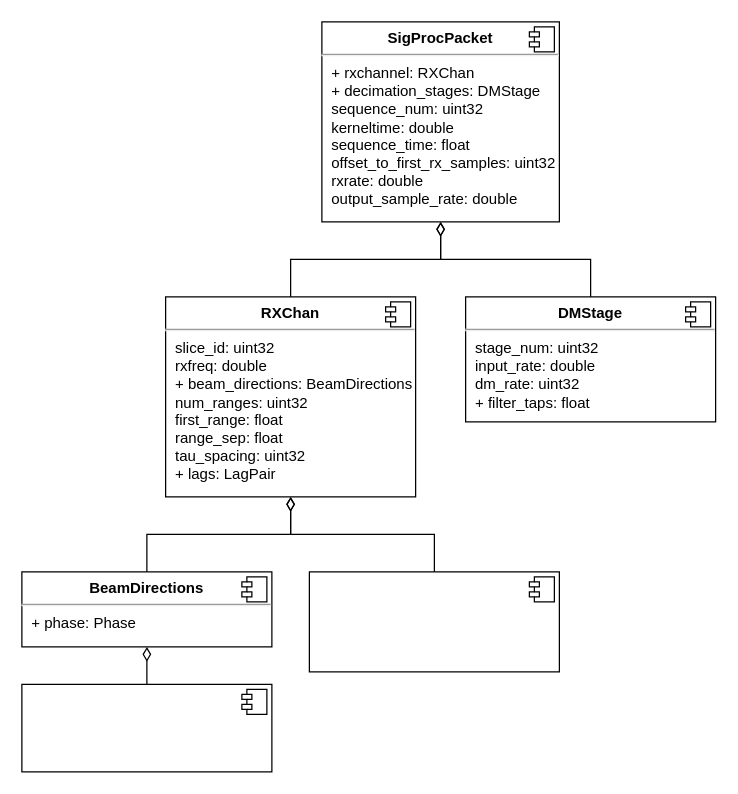
The diagram is 738 pixels wide and 794 high, and some of its shapes have lost their labels. Each missing label, with the box of its shape:
LagPair pulse_1: uint32 pulse_2: uint32 lag_num: uint32: (308, 571, 559, 672)
Phase real_phase: double imag_phase: double: (21, 683, 272, 772)
